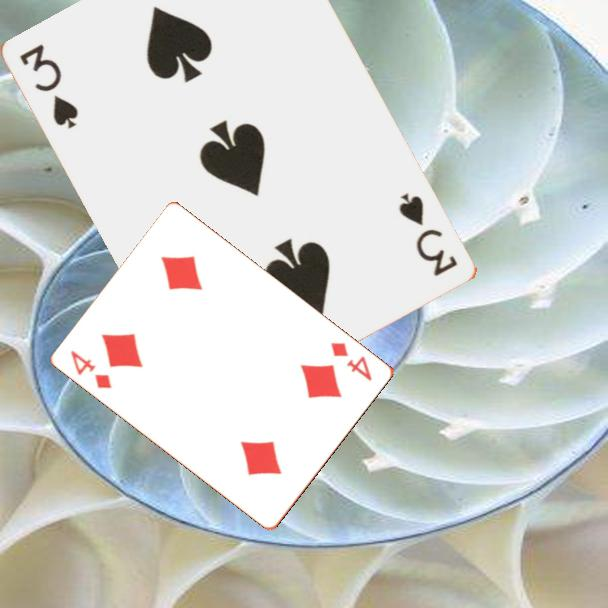d04: (327, 339, 376, 384), (68, 347, 115, 392)
s03: (16, 40, 82, 132), (395, 189, 461, 280)
